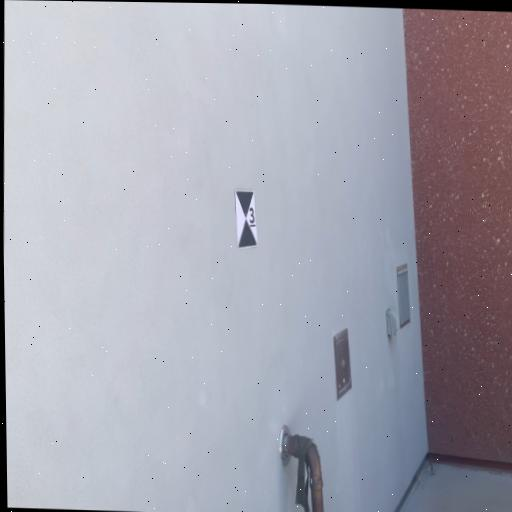target3: (235, 189, 258, 249)
